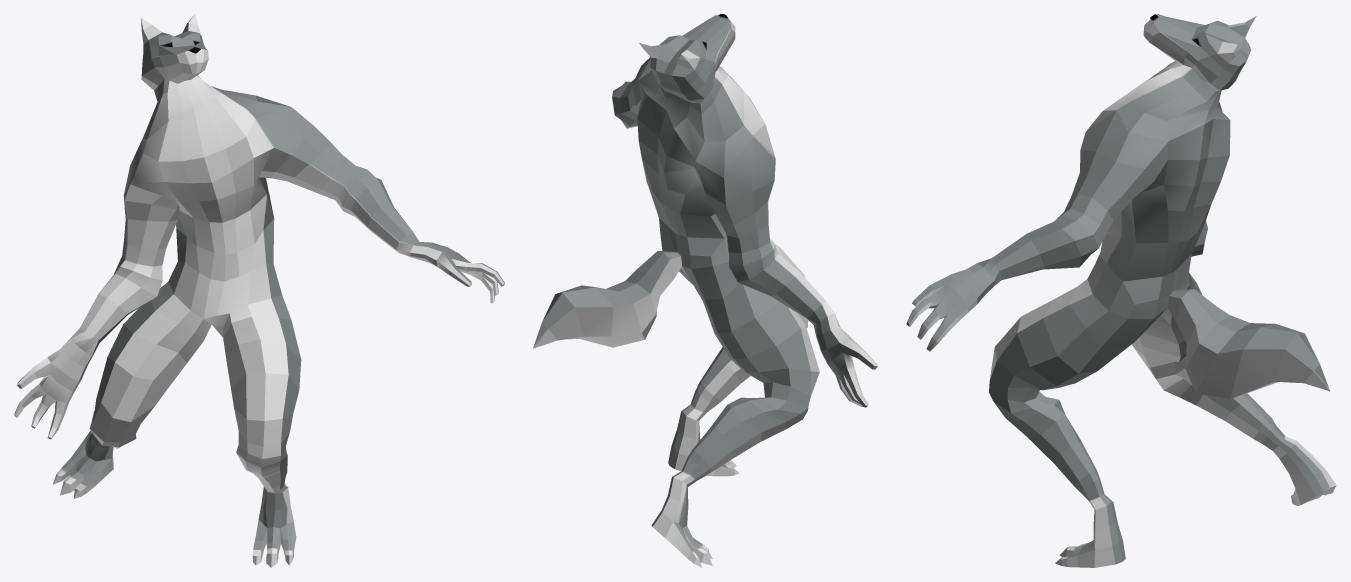
File: WolfDead(12).obj
The picture shows the model from 3 angles, left to right: view 1: azimuth 30°, elevation 25°; view 2: azimuth 150°, elevation 25°; view 3: azimuth 270°, elevation 25°; orthographic projection. The views are drawn at different scales.
Parts seen in each view (by area): view 1: Box001; view 2: Box001; view 3: Box001.
Part boxes in pixels (box(x1,y1,x2,y2)): Box001: box(14, 14, 504, 567); Box001: box(533, 14, 877, 567); Box001: box(906, 14, 1336, 567).
Size of the model in its own units: 108 by 141 by 105.
